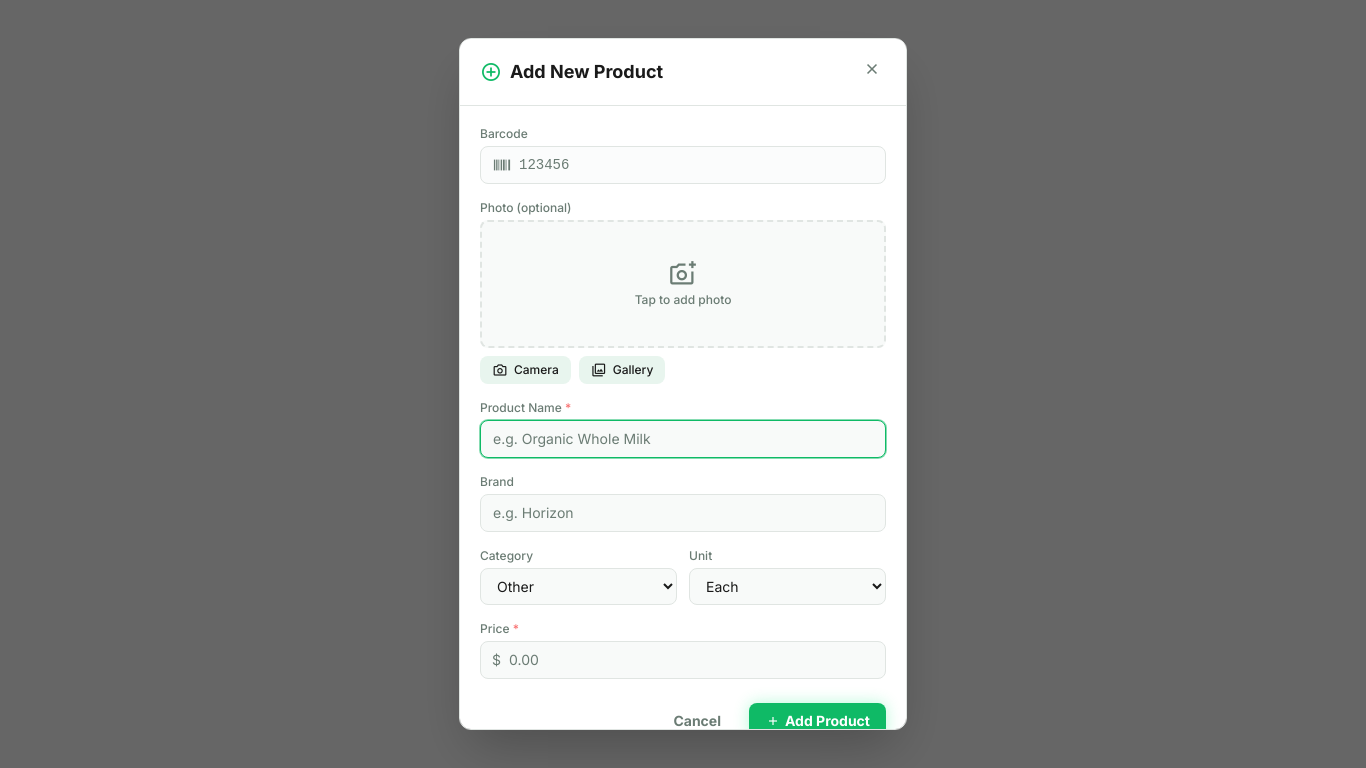
Scenario: AddProductForm › shows error when createProduct fails
This screenshot has width=1366, height=768.
Type "Test" into the field labelled "Product Name *" at point(683, 439), box [480, 420, 886, 458]
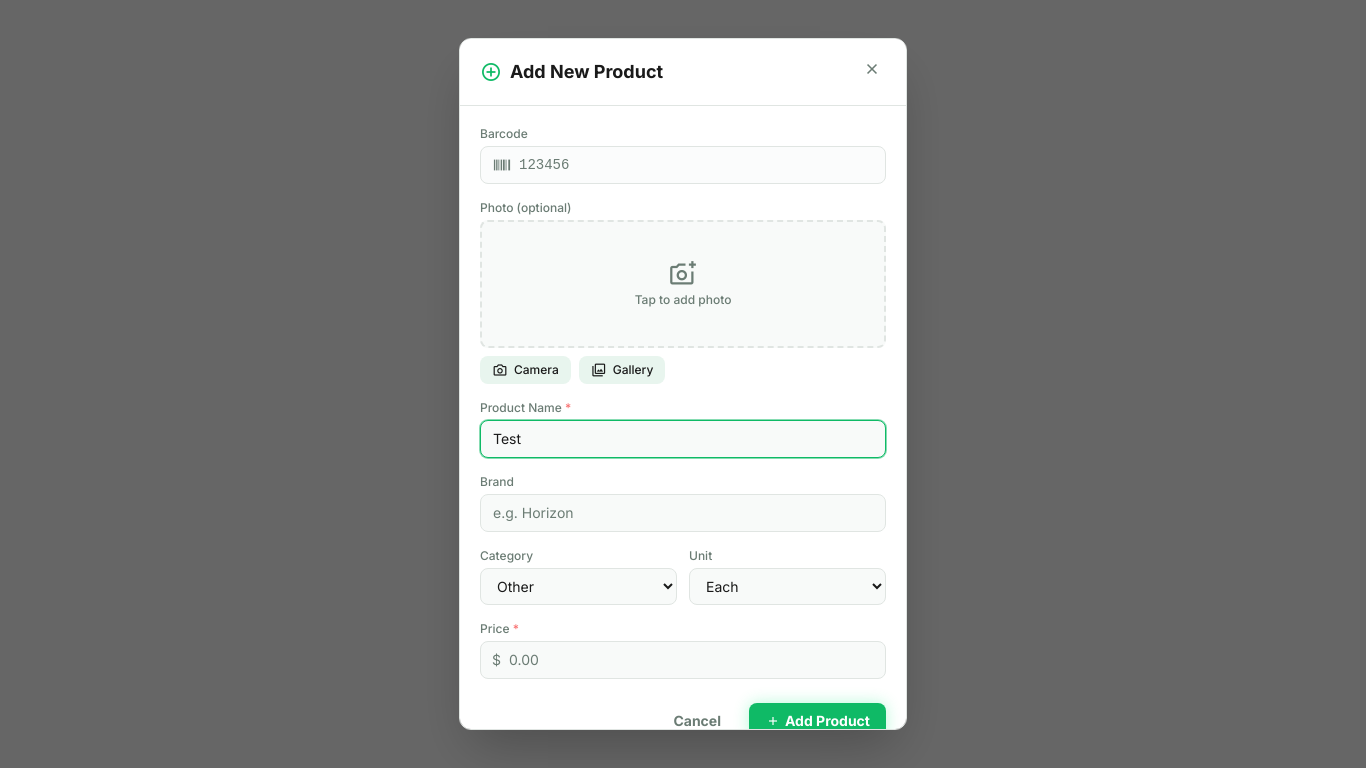
Type "1.99" into the number field labelled "Price *" at point(683, 660), box [480, 641, 886, 679]
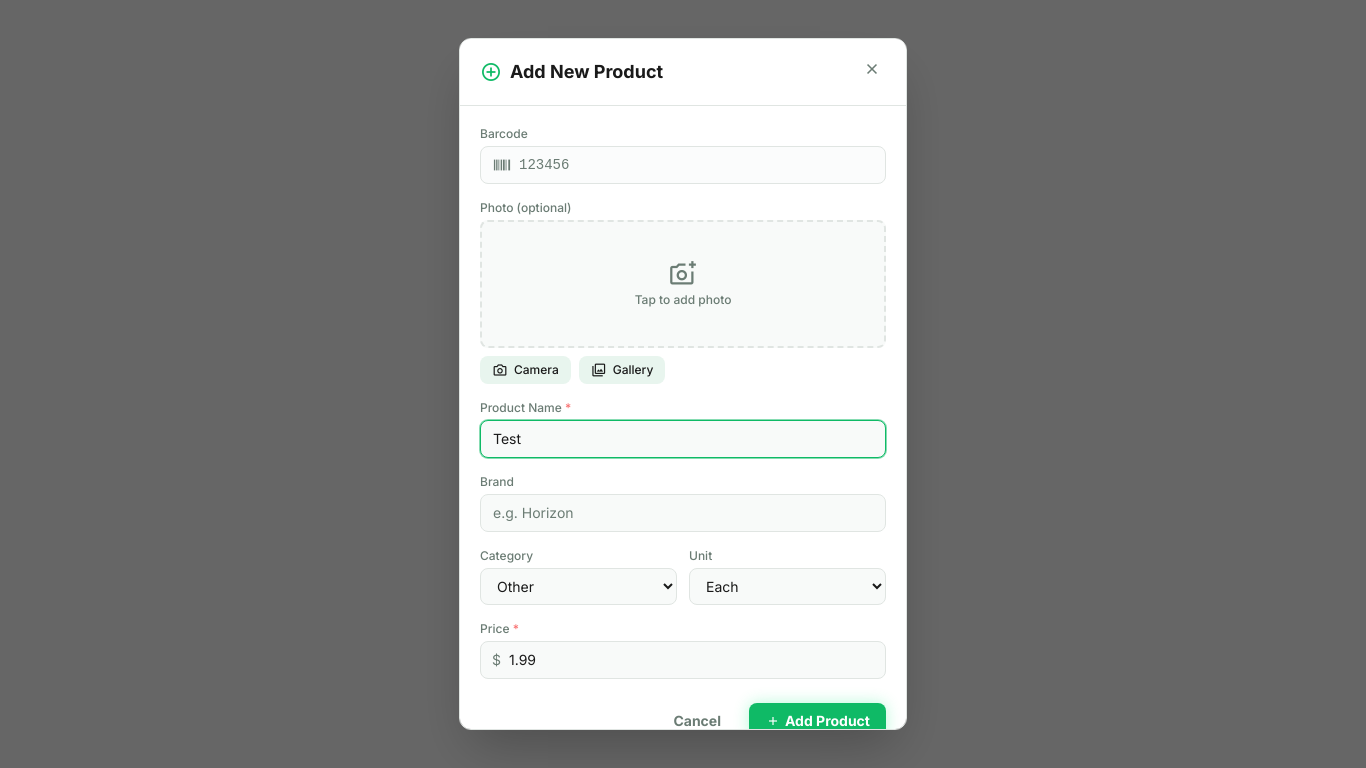
Click the button "Add Product" at point(818, 721), box [749, 703, 886, 739]
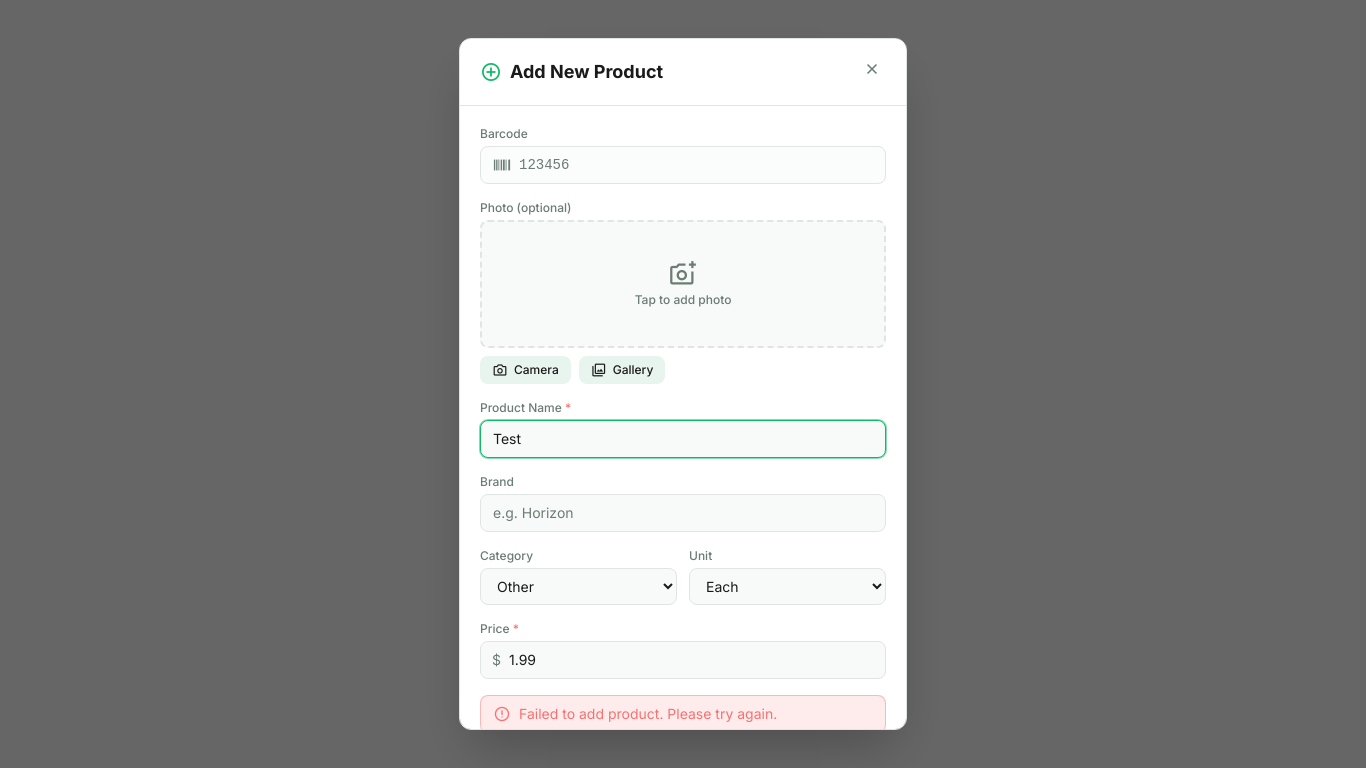
expect the text "Failed to add product. Please try again." is shown: met, box [519, 704, 777, 724]
